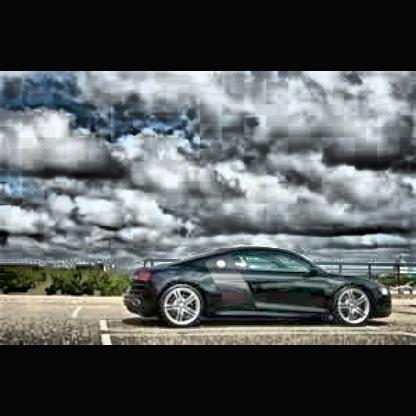Audi R8 Coupe 2012: (128, 248, 395, 329)
